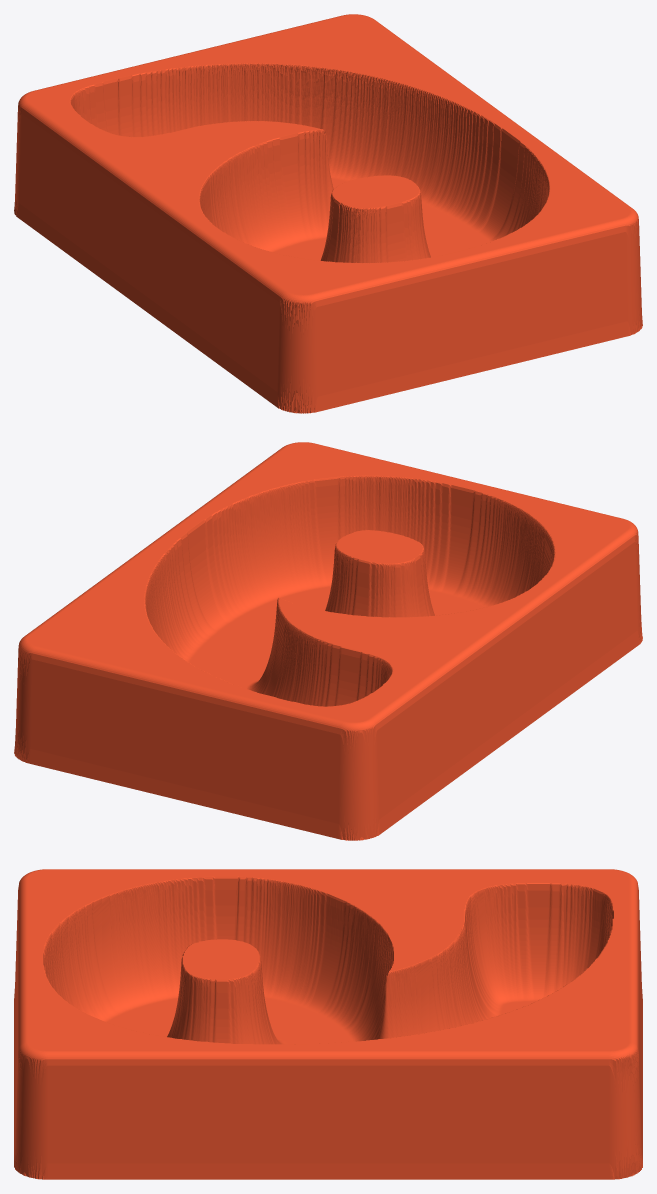
File: mold.glb
The picture shows the model from 3 angles, top to bottom: view 1: azimuth 30°, elevation 25°; view 2: azimuth 150°, elevation 25°; view 3: azimuth 270°, elevation 25°; orthographic projection. The views are drawn at different scales.
Parts seen in each view (by area): view 1: geometry_0; view 2: geometry_0; view 3: geometry_0.
Part boxes in pixels (x1,y1,x2,y2): geometry_0: [14, 14, 642, 413]; geometry_0: [14, 442, 642, 840]; geometry_0: [14, 869, 642, 1179].
Size of the model in its own units: 0.1222 by 0.0365 by 0.1689.
